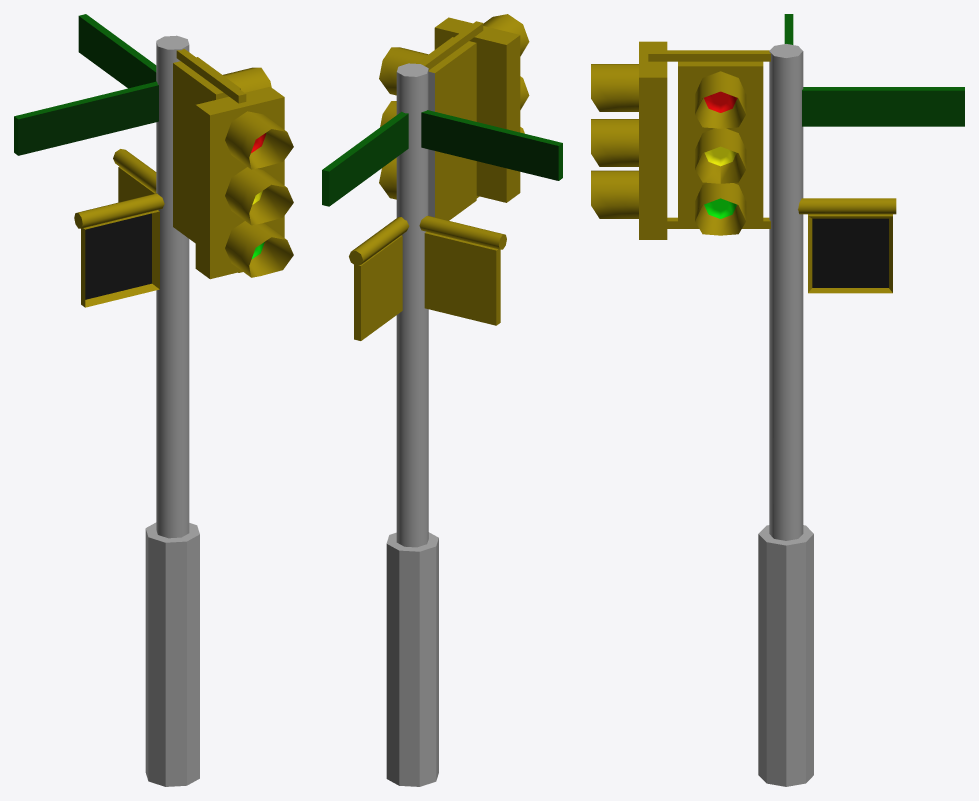
Rendered from Traffic Light.fbx.
The picture shows the model from 3 angles, left to right: view 1: azimuth 30°, elevation 25°; view 2: azimuth 150°, elevation 25°; view 3: azimuth 270°, elevation 25°; orthographic projection. The views are drawn at different scales.
Parts seen in each view (by area): view 1: TrafficLight1; view 2: TrafficLight1; view 3: TrafficLight1.
Part boxes in pixels (<box>): TrafficLight1: <box>14,14,293,786</box>; TrafficLight1: <box>322,14,562,786</box>; TrafficLight1: <box>591,14,964,786</box>.
Size of the model in its own units: 49.98 by 77.79 by 166.
